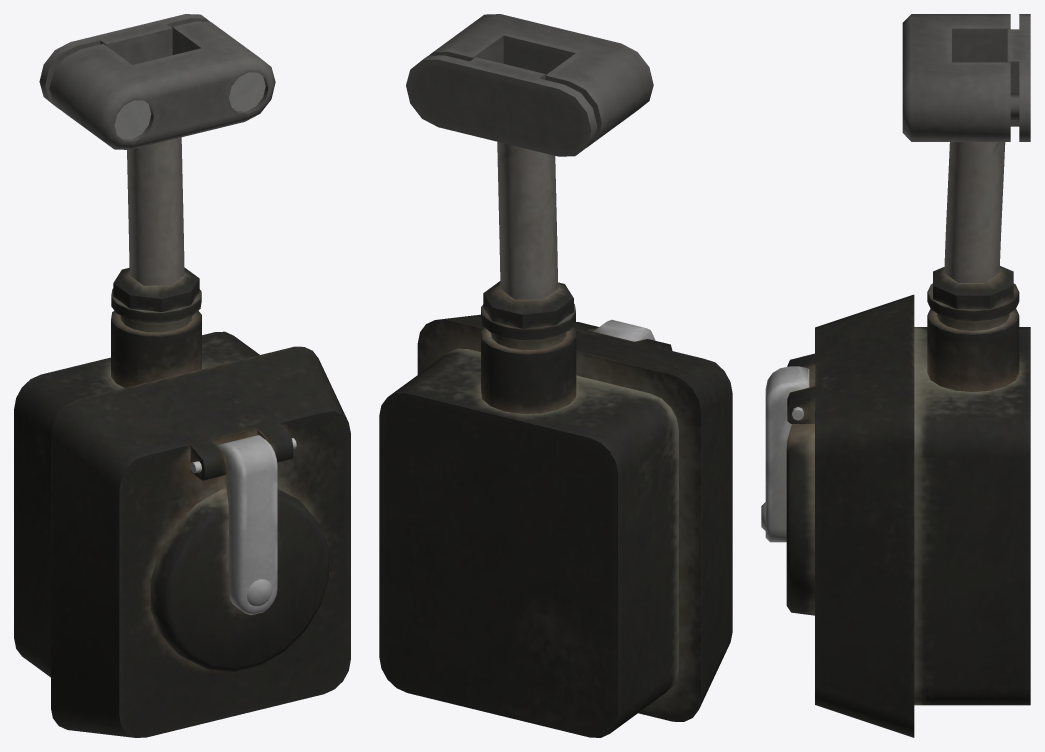
Rendered from cable_plug_covered.gltf.
3 renders of one model, left to right at view 1: azimuth 30°, elevation 25°; view 2: azimuth 150°, elevation 25°; view 3: azimuth 270°, elevation 25°, orthographic. The views are drawn at different scales.
Visible parts, largest first — view 1: cable_plug_covered; view 2: cable_plug_covered; view 3: cable_plug_covered.
Boxes of the visible parts, box(x1,y1,x2,y2) form: cable_plug_covered: box(14, 14, 350, 737); cable_plug_covered: box(379, 14, 732, 737); cable_plug_covered: box(761, 14, 1030, 737).
Size of the model in its own units: 0.0635 by 0.1424 by 0.0546.
1 material, 1 textured.
